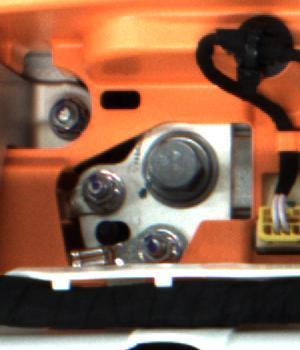nut_b: (133, 124, 225, 209)
screw_s: (43, 99, 86, 135), (134, 226, 174, 264), (79, 170, 115, 207)
